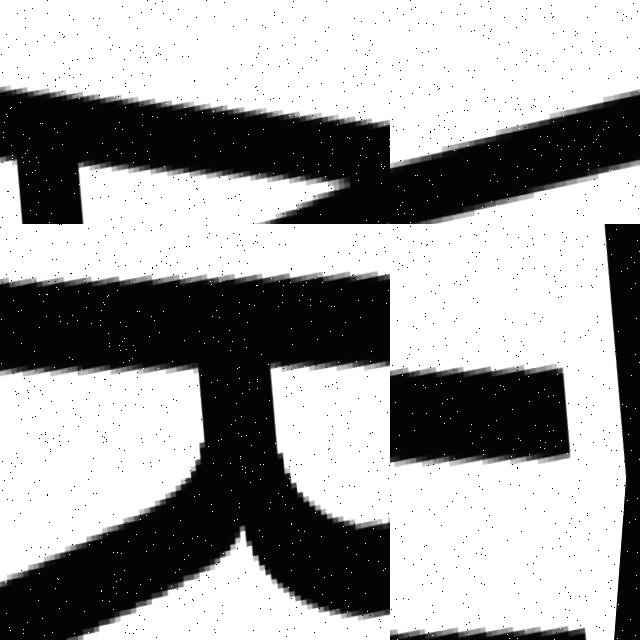A: (0, 0, 390, 224)
H: (390, 261, 640, 640)
R: (0, 224, 390, 640)
V: (390, 34, 640, 224)
